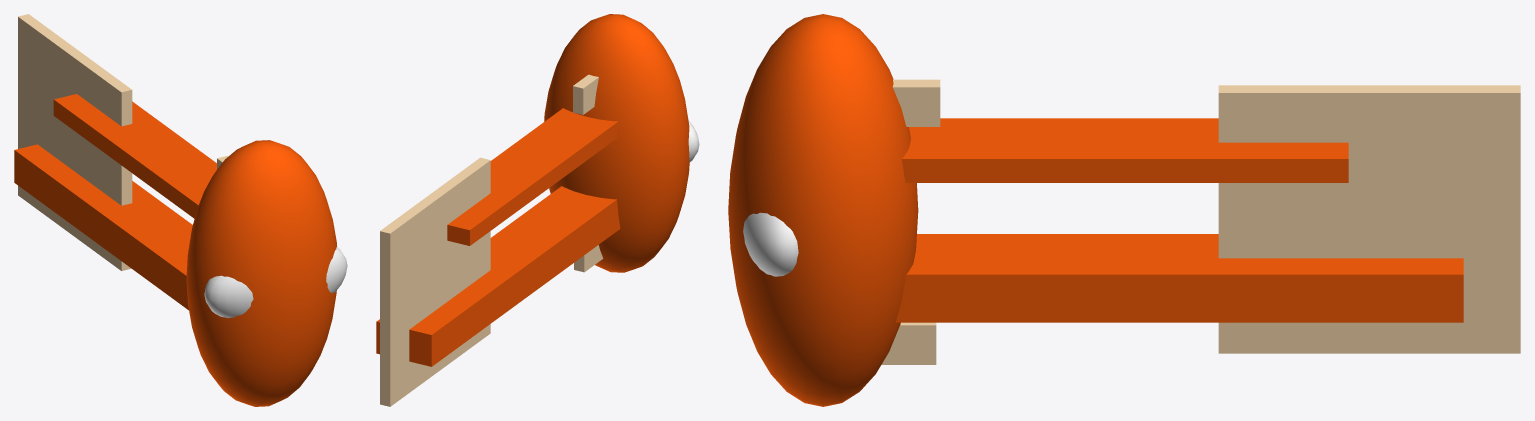
Rendered from Fish_NeoFish.fbx.
The picture shows the model from 3 angles, left to right: view 1: azimuth 30°, elevation 25°; view 2: azimuth 150°, elevation 25°; view 3: azimuth 270°, elevation 25°; orthographic projection. The views are drawn at different scales.
Parts seen in each view (by area): view 1: Sphere, Cube__2_, Cube__3_, Cube__5_, Sphere_1; view 2: Sphere, Cube__2_, Cube__3_, Cube__5_, Cube__4_, Cube__6_, Sphere_1; view 3: Cube__2_, Sphere, Cube__3_, Cube__5_, Sphere_1, Cube__4_, Cube__6_.
Part boxes in pixels (x1,y1,x2,y2): Sphere: (186, 140, 336, 406); Cube__2_: (18, 14, 132, 270); Cube__3_: (14, 144, 192, 310); Cube__5_: (53, 94, 216, 218); Sphere_1: (204, 247, 347, 318); Sphere: (544, 14, 689, 272); Cube__2_: (380, 157, 490, 406); Cube__3_: (376, 186, 620, 366); Cube__5_: (447, 108, 618, 245); Cube__4_: (573, 74, 598, 114); Cube__6_: (574, 245, 603, 272); Sphere_1: (688, 120, 699, 162); Cube__2_: (1218, 85, 1520, 353); Sphere: (728, 14, 918, 406); Cube__3_: (895, 234, 1463, 322); Cube__5_: (901, 118, 1348, 182); Sphere_1: (743, 212, 798, 276); Cube__4_: (893, 79, 940, 126); Cube__6_: (881, 322, 936, 364).
Size of the model in its own units: 62.88 by 113 by 212.
